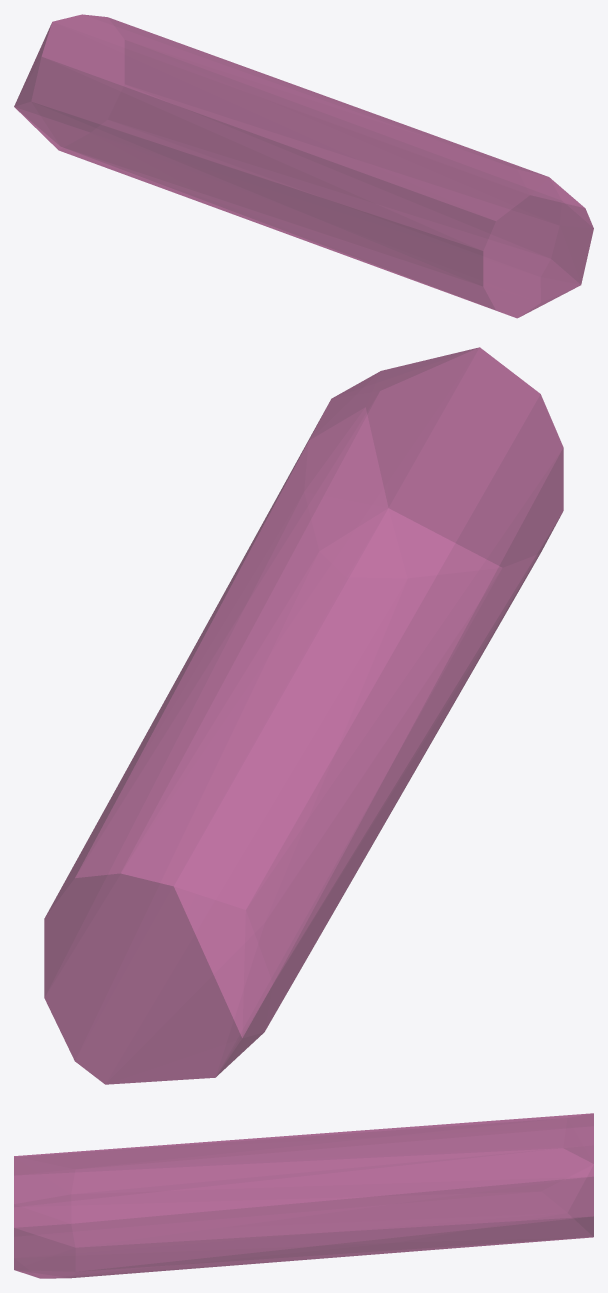
3 views of the same model, one above another, from view 1: azimuth 30°, elevation 25°; view 2: azimuth 150°, elevation 25°; view 3: azimuth 270°, elevation 25° (orthographic). The views are drawn at different scales.
Parts seen in each view (by area): view 1: Shape_IndexedFaceSet.007_Shape_IndexedFaceSet.4849; view 2: Shape_IndexedFaceSet.007_Shape_IndexedFaceSet.4849; view 3: Shape_IndexedFaceSet.007_Shape_IndexedFaceSet.4849.
Boxes of the visible parts, bbox=[...] form: Shape_IndexedFaceSet.007_Shape_IndexedFaceSet.4849: bbox=[14, 14, 593, 318]; Shape_IndexedFaceSet.007_Shape_IndexedFaceSet.4849: bbox=[44, 347, 563, 1084]; Shape_IndexedFaceSet.007_Shape_IndexedFaceSet.4849: bbox=[14, 1113, 593, 1278].
Size of the model in its own units: 0.0871 by 0.0479 by 0.1915.
